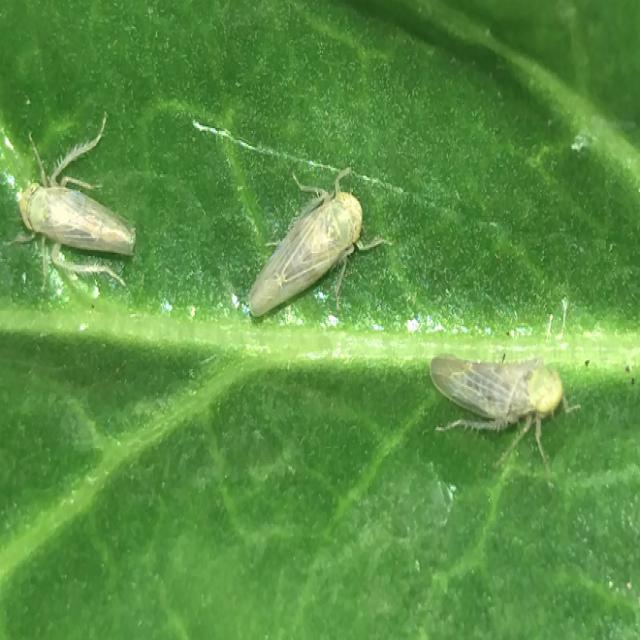Yechan: (232, 173, 386, 328), (12, 134, 136, 287), (416, 341, 587, 443)
